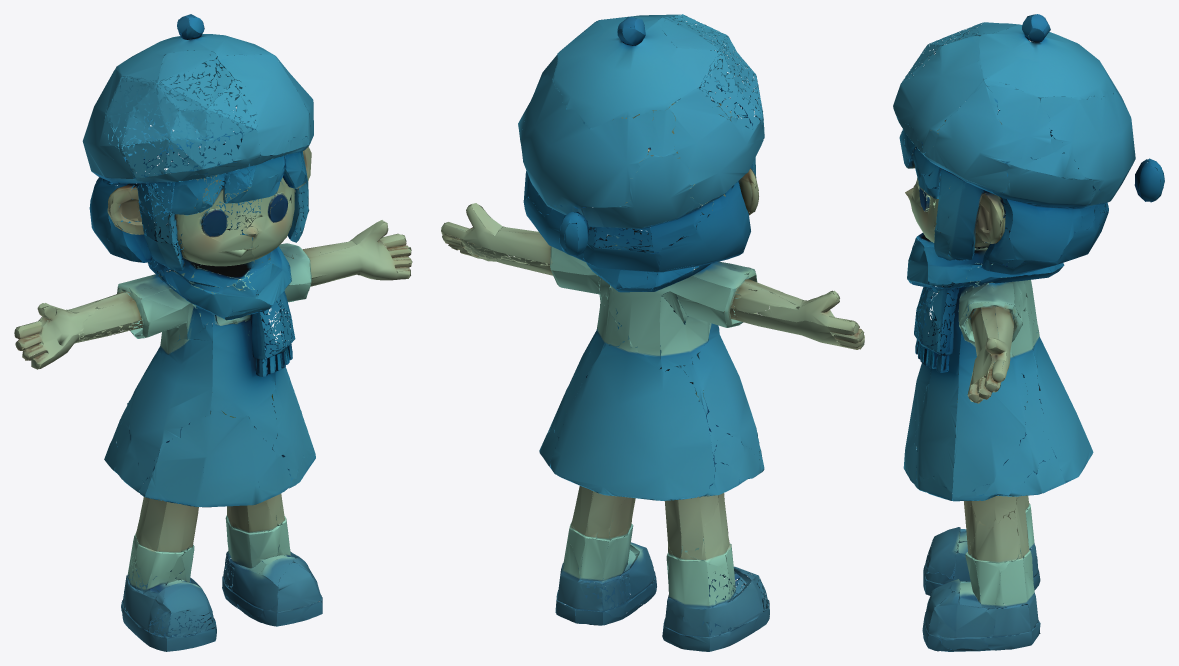
File: Mint.glb
3 renders of one model, left to right at view 1: azimuth 30°, elevation 25°; view 2: azimuth 150°, elevation 25°; view 3: azimuth 270°, elevation 25°, orthographic. The views are drawn at different scales.
Parts seen in each view (by area): view 1: node_0; view 2: node_0; view 3: node_0.
Boxes of the visible parts, left/top/right/bottom form: node_0: left=14, top=14, right=412, bottom=651; node_0: left=441, top=14, right=864, bottom=651; node_0: left=893, top=14, right=1164, bottom=651.
Bounding box in the file's own units: 0.7911 × 1.12 × 0.4623.
Materials: 1 (1 with a texture image).
